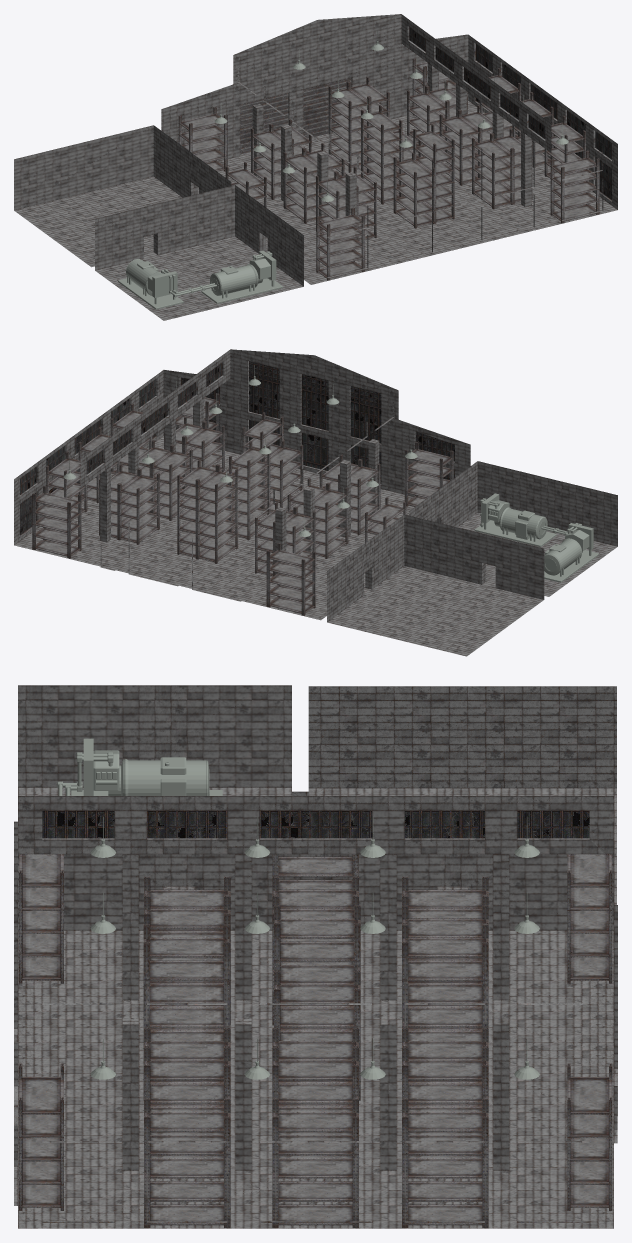
Rendered from Eddy is genuinely unintelligent.glb.
3 views of the same model, one above another, from view 1: azimuth 30°, elevation 25°; view 2: azimuth 150°, elevation 25°; view 3: azimuth 270°, elevation 25° (orthographic). The views are drawn at different scales.
Visible parts, largest first — view 1: Warehouse-col.001, Generator-col.054, Warehouse-col.005, Generator-col.061, Generator-col.018, Warehouse-col.008, Generator-col.011, Generator-col.016, Warehouse-col.009, Warehouse-col.007, Warehouse-col.006, Shelving_Unit_Base_Tall-col.005 (+15 smaller); view 2: Warehouse-col.001, Generator-col.011, Generator-col.054, Warehouse-col.003, Generator-col.061, Warehouse-col.006, Warehouse-col.007, Generator-col.018, Warehouse-col.009, Warehouse-col.008, Shelving_Unit_Base_Tall-col.005, Shelving_Unit_Base_Small-col.050 (+14 smaller); view 3: Warehouse-col.001, Warehouse-col.003, Warehouse-col.005, Warehouse-col.004, Warehouse-col.002, Generator-col.011, Warehouse-col.007, Warehouse-col.009, Warehouse-col.008, Warehouse-col.006, Shelving_Unit_Tall-col.013, Shelving_Unit_Base_Tall-col.006 (+74 smaller).
Part boxes in pixels (x1,y1,x2,y2): Warehouse-col.001: [14, 14, 617, 320]; Generator-col.054: [210, 264, 263, 295]; Warehouse-col.005: [521, 131, 531, 206]; Generator-col.061: [201, 278, 282, 303]; Generator-col.018: [118, 278, 183, 309]; Warehouse-col.008: [281, 124, 291, 201]; Generator-col.011: [126, 259, 157, 295]; Generator-col.016: [152, 271, 177, 297]; Warehouse-col.009: [345, 172, 356, 238]; Warehouse-col.007: [252, 103, 263, 179]; Warehouse-col.006: [317, 151, 328, 228]; Shelving_Unit_Base_Tall-col.005: [413, 131, 454, 152]; Warehouse-col.001: [14, 349, 617, 656]; Generator-col.011: [544, 538, 582, 575]; Generator-col.054: [494, 507, 547, 539]; Warehouse-col.003: [100, 466, 110, 542]; Generator-col.061: [474, 520, 556, 546]; Warehouse-col.006: [340, 460, 350, 537]; Warehouse-col.007: [275, 507, 286, 574]; Generator-col.018: [544, 550, 598, 582]; Warehouse-col.009: [368, 439, 379, 514]; Warehouse-col.008: [303, 486, 314, 563]; Shelving_Unit_Base_Tall-col.005: [243, 419, 283, 439]; Shelving_Unit_Base_Small-col.050: [268, 550, 314, 567]; Warehouse-col.001: [14, 685, 617, 1228]; Warehouse-col.003: [493, 1018, 509, 1170]; Warehouse-col.005: [122, 1018, 138, 1170]; Warehouse-col.004: [380, 1018, 396, 1170]; Warehouse-col.002: [235, 1018, 251, 1170]; Generator-col.011: [108, 758, 209, 795]; Warehouse-col.007: [493, 854, 509, 1000]; Warehouse-col.009: [122, 854, 138, 1000]; Warehouse-col.008: [380, 854, 396, 1000]; Warehouse-col.006: [235, 854, 251, 1000]; Shelving_Unit_Tall-col.013: [402, 960, 488, 981]; Shelving_Unit_Base_Tall-col.006: [274, 941, 360, 962].
Size of the model in its own units: 81.56 by 20.08 by 47.03.
Materials: 9 (7 with a texture image).
